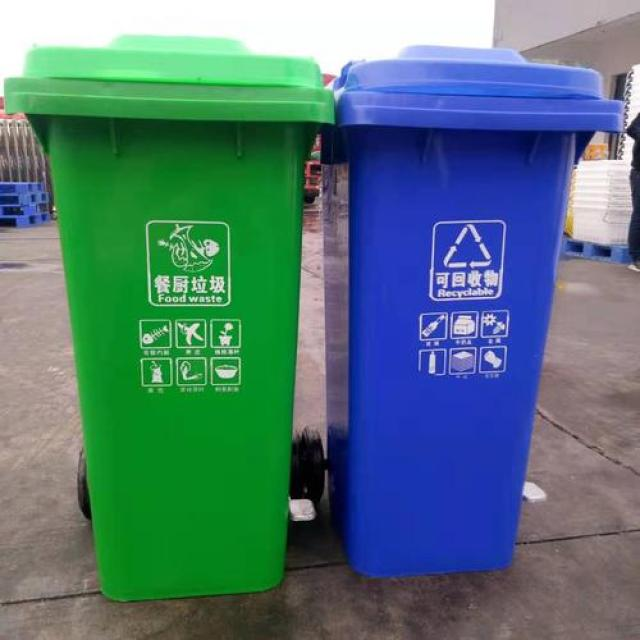garbage_bin: (3, 33, 334, 600), (322, 45, 624, 576)
